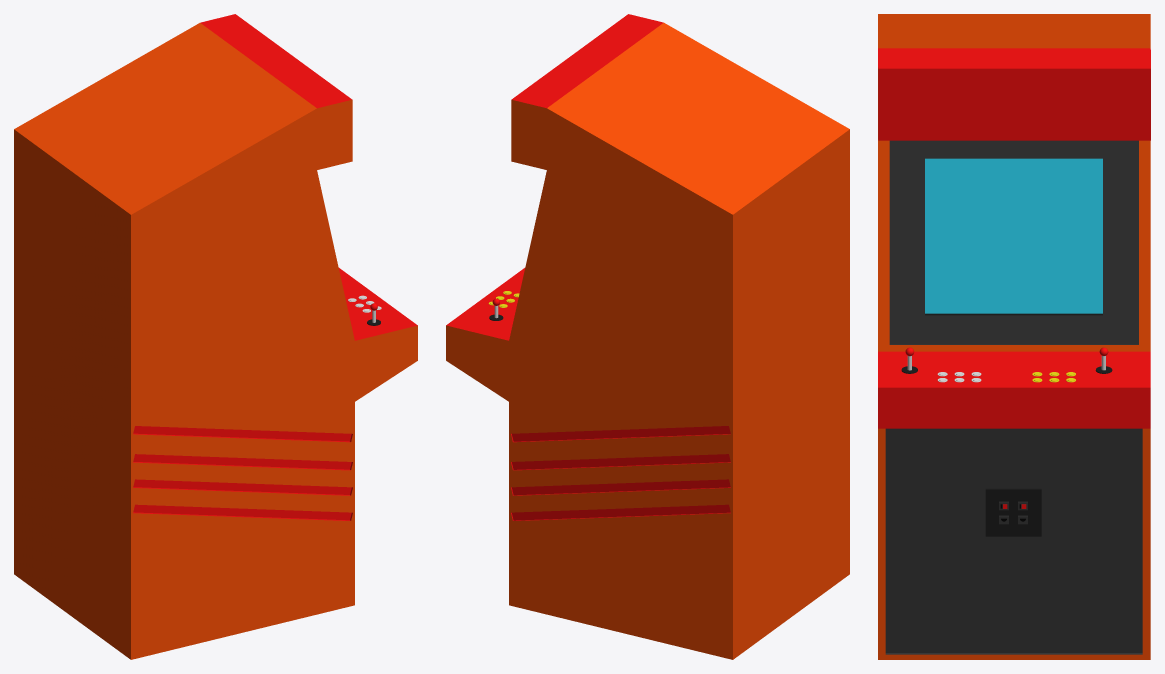
Rendered from ArcadeMachine.FBX.
The picture shows the model from 3 angles, left to right: view 1: azimuth 30°, elevation 25°; view 2: azimuth 150°, elevation 25°; view 3: azimuth 270°, elevation 25°; orthographic projection. The views are drawn at different scales.
Parts seen in each view (by area): view 1: ArcadeMachine; view 2: ArcadeMachine; view 3: ArcadeMachine, Box015, Box004.
Boxes of the visible parts, x1,y1,x2,y2 form: ArcadeMachine: [14, 14, 417, 659]; ArcadeMachine: [446, 14, 849, 659]; ArcadeMachine: [878, 14, 1150, 659]; Box015: [925, 158, 1102, 313]; Box004: [985, 488, 1041, 536].
Size of the model in its own units: 36.39 by 61.36 by 25.72.
